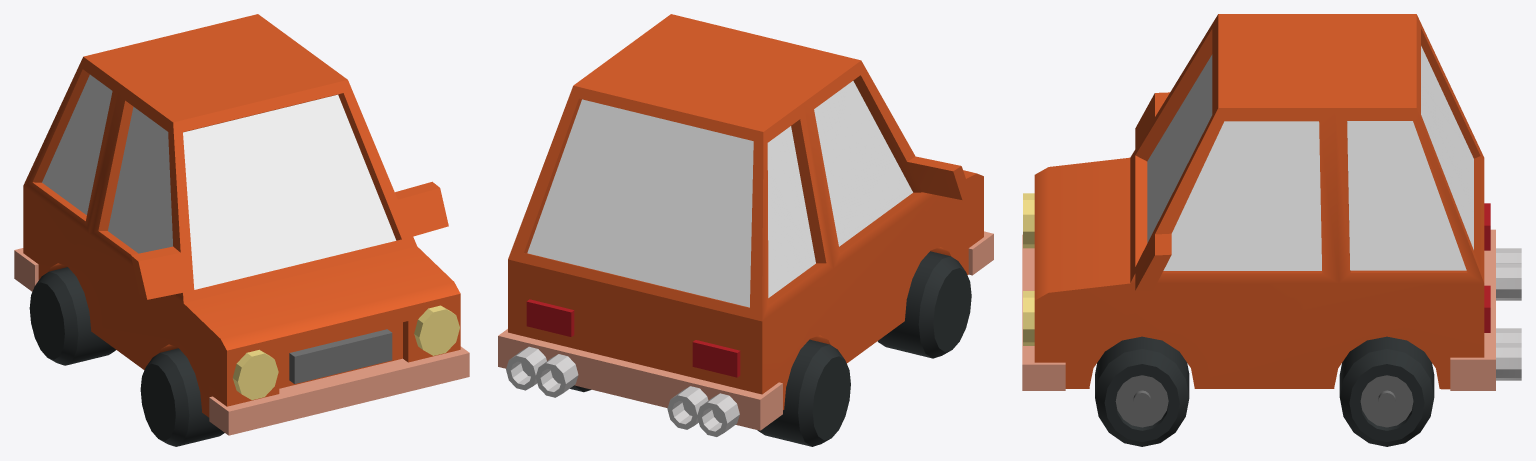
File: obj_car1_4.fbx
3 renders of one model, left to right at view 1: azimuth 30°, elevation 25°; view 2: azimuth 150°, elevation 25°; view 3: azimuth 270°, elevation 25°, orthographic. The views are drawn at different scales.
Visible parts, largest first — view 1: obj_car1_4; view 2: obj_car1_4; view 3: obj_car1_4.
Part boxes in pixels (bbox=[...]): obj_car1_4: bbox=[14, 14, 469, 446]; obj_car1_4: bbox=[498, 14, 993, 446]; obj_car1_4: bbox=[1022, 14, 1521, 446].
Bounding box in the file's own units: 1.34 × 1.22 × 1.74.
Materials: 2 (2 with a texture image).
